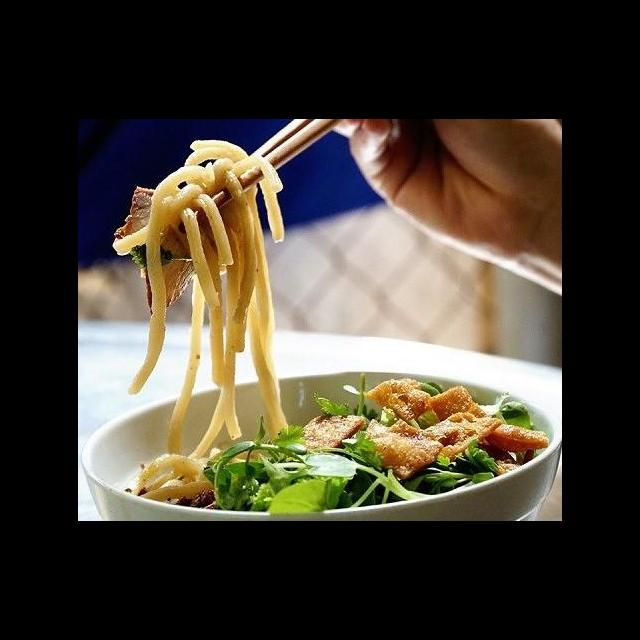banh da: (424, 383, 551, 454), (360, 413, 447, 480), (419, 410, 504, 467), (281, 411, 368, 459), (360, 376, 435, 422)
mi: (125, 136, 291, 505)
mi quang: (88, 152, 562, 521)
thit heo: (110, 183, 209, 319)
